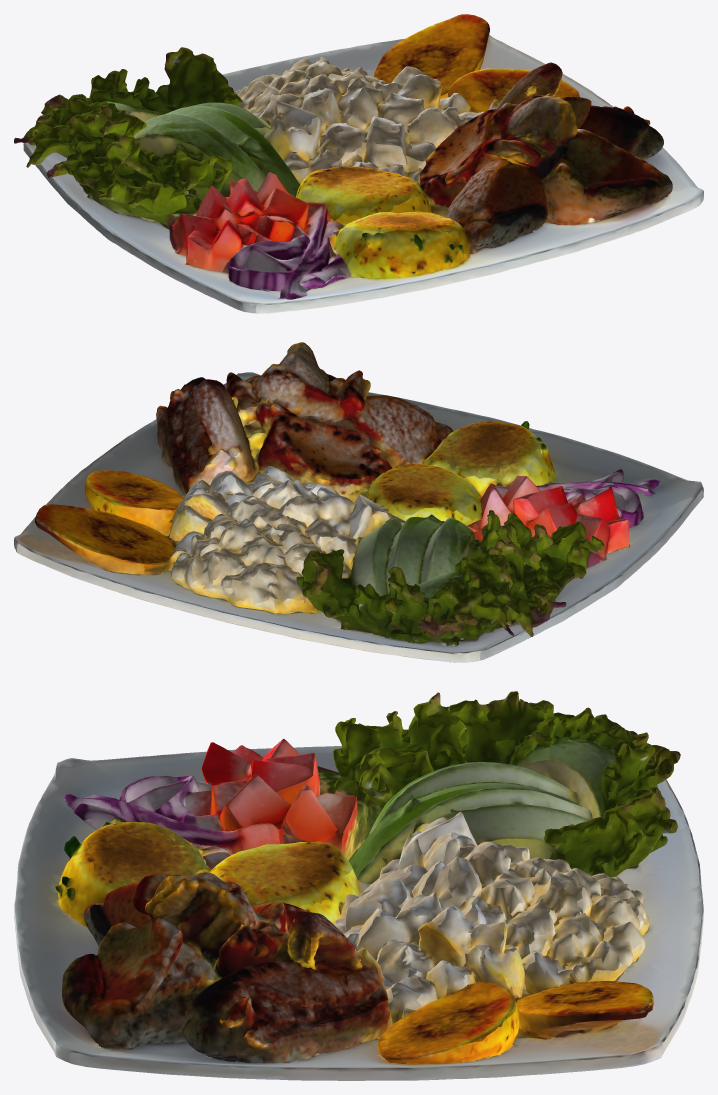
Rendered from fritada.glb.
The picture shows the model from 3 angles, top to bottom: view 1: azimuth 30°, elevation 25°; view 2: azimuth 150°, elevation 25°; view 3: azimuth 270°, elevation 25°; orthographic projection. The views are drawn at different scales.
Visible parts, largest first — view 1: geometry_0; view 2: geometry_0; view 3: geometry_0.
Boxes of the visible parts, <box> form: geometry_0: <box>14,14,703,313</box>; geometry_0: <box>14,342,703,662</box>; geometry_0: <box>14,691,703,1080</box>.
Size of the model in its own units: 0.2624 by 0.065 by 0.2348.
Materials: 1 (1 with a texture image).
